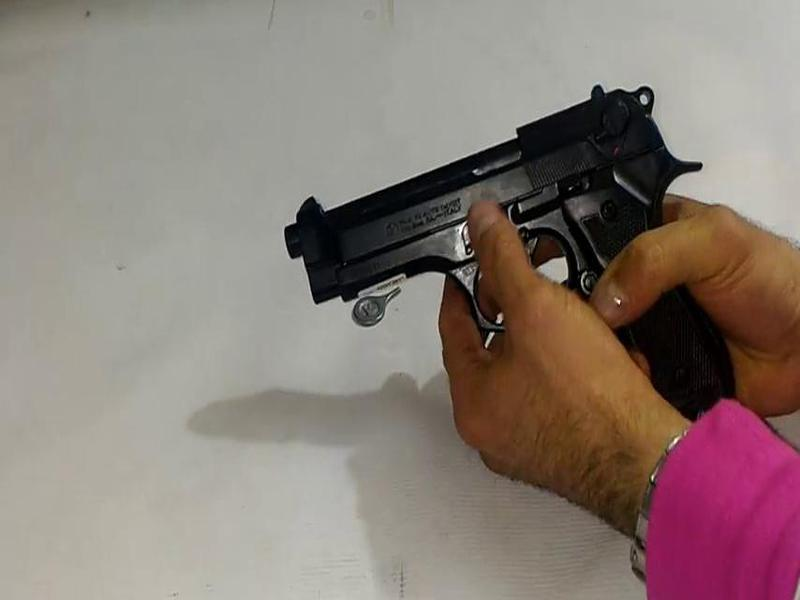Pistola: (268, 42, 744, 448)
